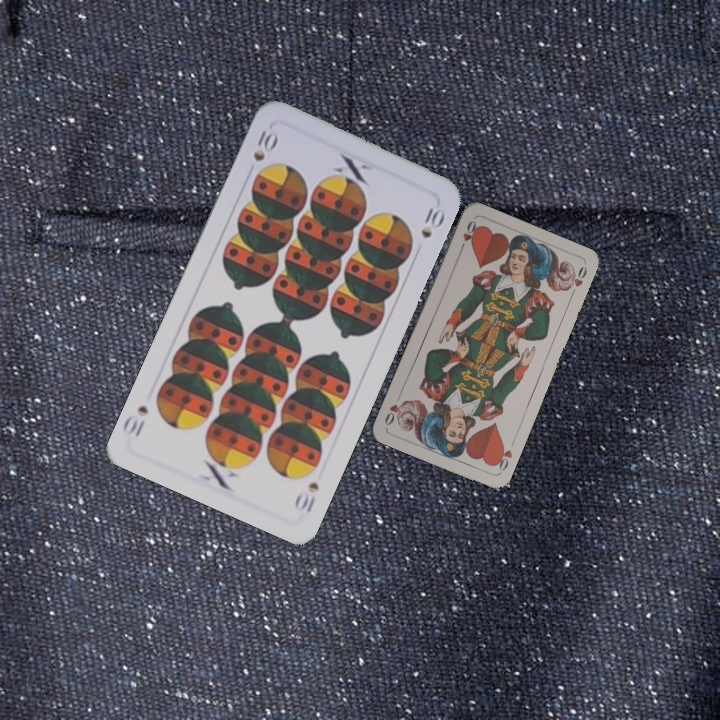HO: (456, 216, 479, 255), (490, 440, 515, 475)
S10: (249, 125, 281, 164), (290, 478, 322, 516)
